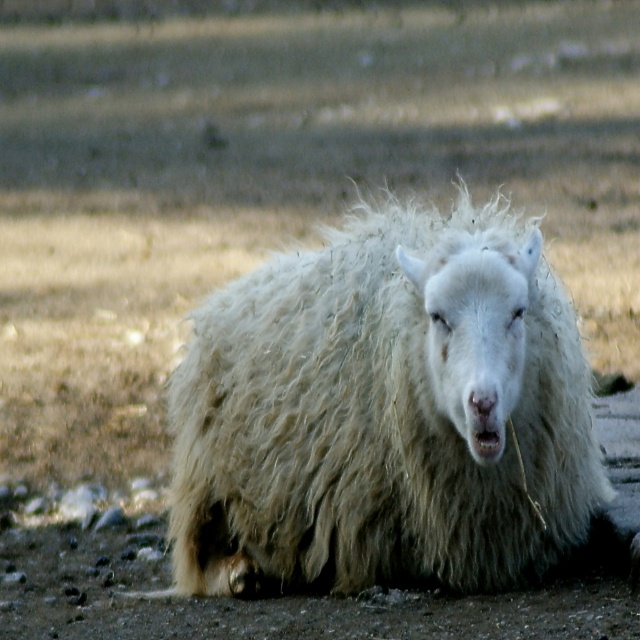Sheep: (121, 166, 622, 601)
